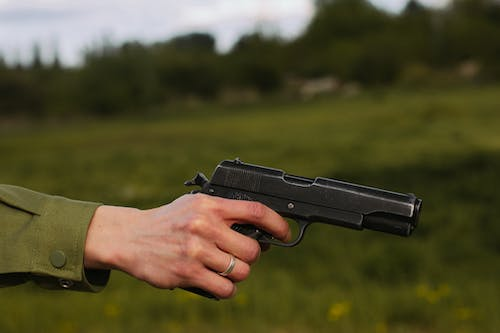gun: (182, 156, 423, 302)
